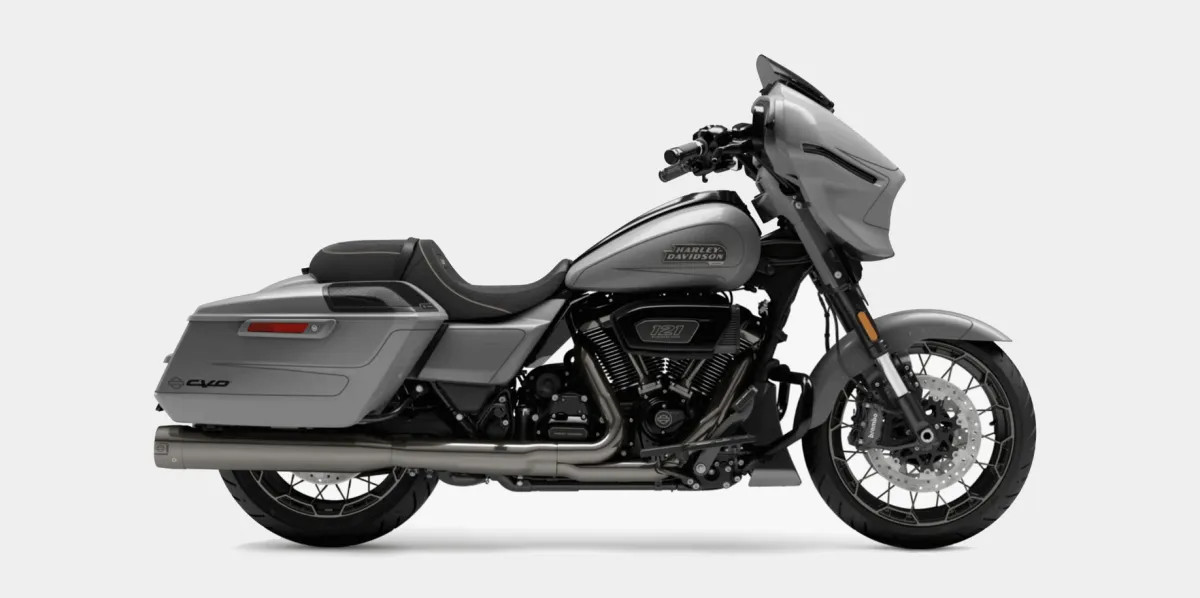bike: (150, 53, 1039, 553)
